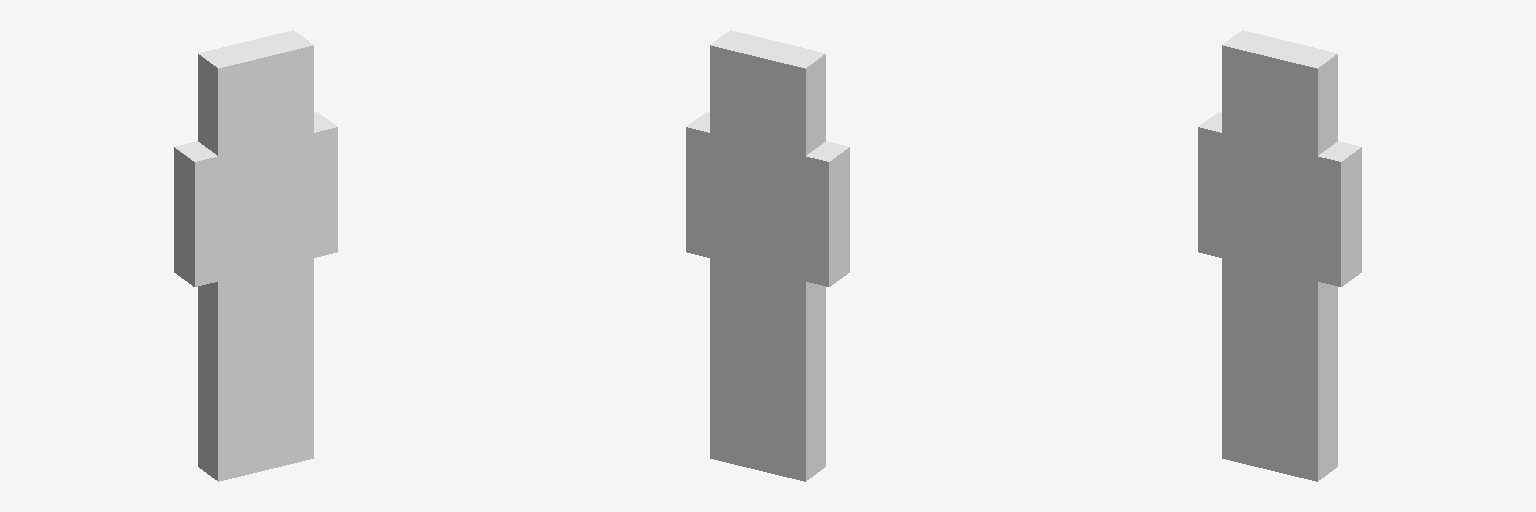
File: Shaggy3D.obj
3 renders of one model, left to right at view 1: azimuth 30°, elevation 25°; view 2: azimuth 150°, elevation 25°; view 3: azimuth 330°, elevation 25°, orthographic.
Parts seen in each view (by area): view 1: object 1; view 2: object 1; view 3: object 1.
Part boxes in pixels (bbox=[...]): object 1: bbox=[174, 30, 337, 481]; object 1: bbox=[686, 30, 849, 481]; object 1: bbox=[1198, 30, 1361, 481].
Size of the model in its own units: 1.2 by 3.3 by 0.3.